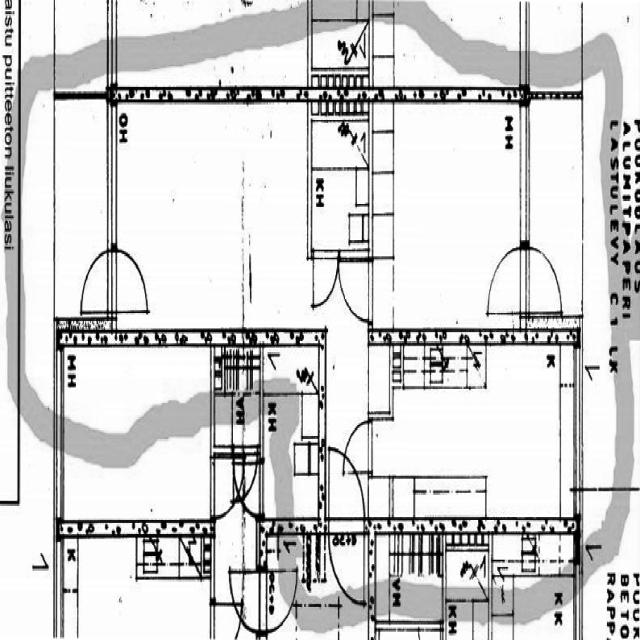door: (325, 444, 366, 521), (485, 239, 524, 319), (111, 240, 152, 316), (327, 527, 367, 604), (525, 240, 563, 314), (78, 246, 112, 317), (337, 256, 373, 322), (267, 570, 300, 633), (342, 419, 373, 475), (311, 249, 339, 309), (237, 451, 259, 500)
window: (515, 102, 536, 250), (104, 105, 121, 251), (54, 348, 66, 422), (573, 576, 585, 640)
zone: (112, 103, 315, 330), (368, 316, 582, 519), (366, 102, 531, 328), (58, 352, 222, 538), (260, 342, 323, 526), (310, 108, 370, 262), (212, 342, 262, 453), (444, 539, 490, 606)
